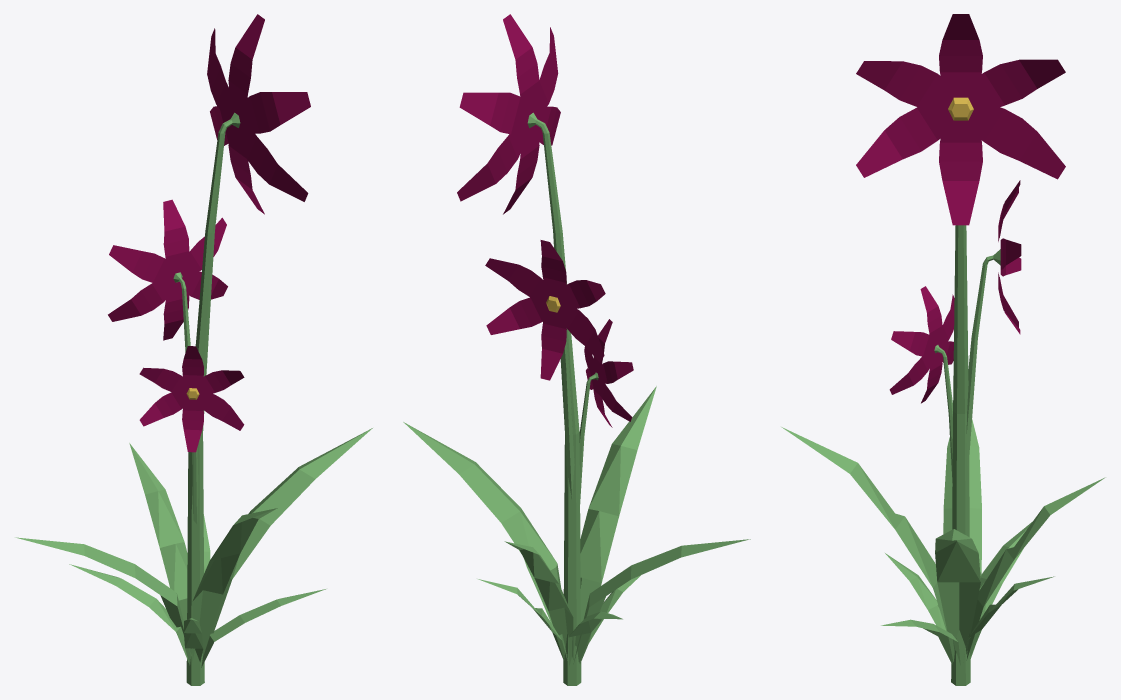
Rendered from Flowers.fbx.
3 views of the same model, side by side, from view 1: azimuth 30°, elevation 25°; view 2: azimuth 150°, elevation 25°; view 3: azimuth 270°, elevation 25° (orthographic). The views are drawn at different scales.
Visible parts, largest first — view 1: Flowers; view 2: Flowers; view 3: Flowers.
Part boxes in pixels (bbox=[...]): Flowers: bbox=[15, 14, 372, 685]; Flowers: bbox=[403, 14, 750, 685]; Flowers: bbox=[781, 14, 1105, 685].
Bounding box in the file's own units: 0.226 × 0.3962 × 0.167.
Materials: 1 (1 with a texture image).
